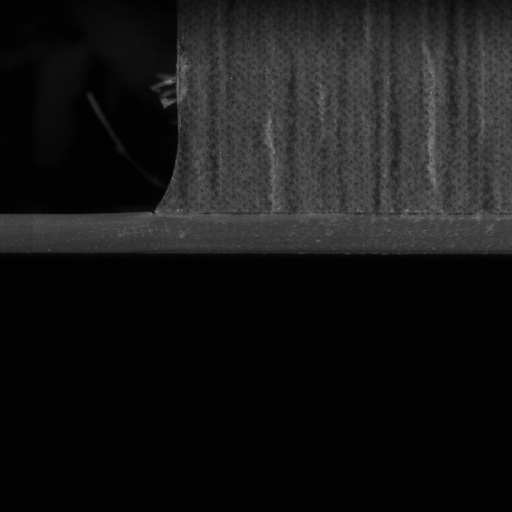changdai: (0, 210, 152, 257)
